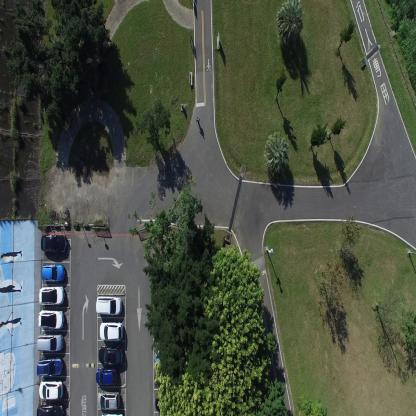car: (36, 354, 63, 377), (37, 308, 65, 330), (38, 284, 65, 306), (95, 294, 123, 315), (36, 331, 64, 352), (40, 234, 67, 254), (99, 320, 123, 342), (98, 345, 124, 365), (39, 379, 63, 400), (154, 369, 179, 389), (41, 262, 66, 282), (154, 346, 178, 366), (96, 389, 120, 409), (155, 392, 180, 411), (95, 366, 118, 386), (36, 402, 64, 416), (100, 410, 124, 416)
